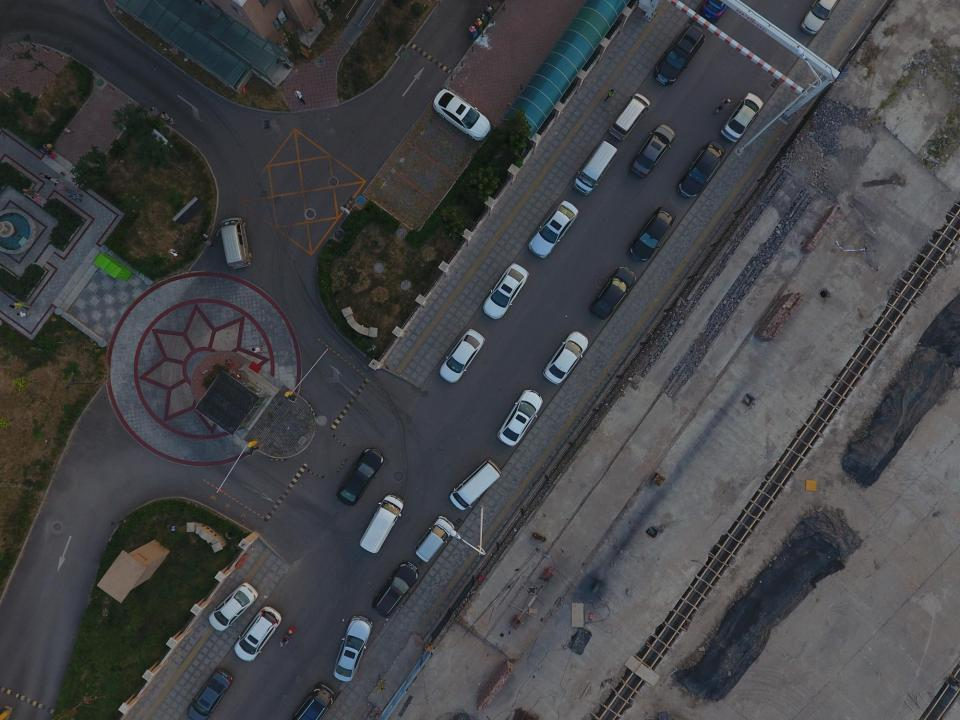car: (653, 24, 705, 85), (527, 199, 578, 258), (434, 87, 490, 140), (676, 140, 725, 199), (336, 448, 384, 507), (628, 206, 675, 262), (234, 605, 280, 662), (334, 615, 373, 682), (483, 262, 528, 320), (496, 391, 543, 446), (185, 666, 232, 720), (372, 561, 418, 616), (208, 581, 258, 631), (439, 329, 485, 383), (631, 124, 677, 178), (543, 331, 588, 385), (590, 266, 635, 320), (721, 92, 764, 144), (294, 680, 332, 720), (801, 0, 839, 37), (702, 0, 734, 22)
van: (359, 493, 404, 554), (449, 460, 502, 510), (574, 141, 616, 196), (413, 516, 454, 564), (609, 94, 650, 140), (215, 217, 251, 269)
